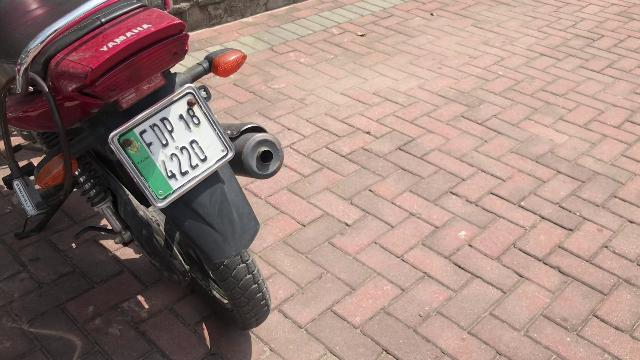plate: (110, 87, 234, 204)
